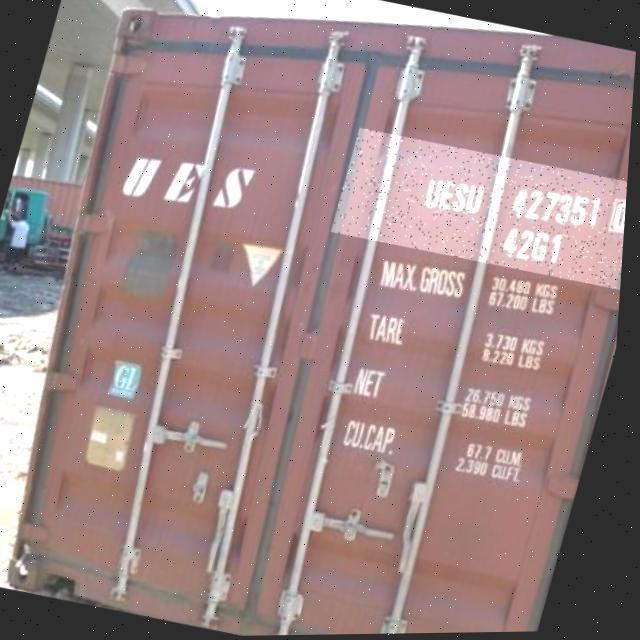container_number_h: (330, 126, 633, 297)
